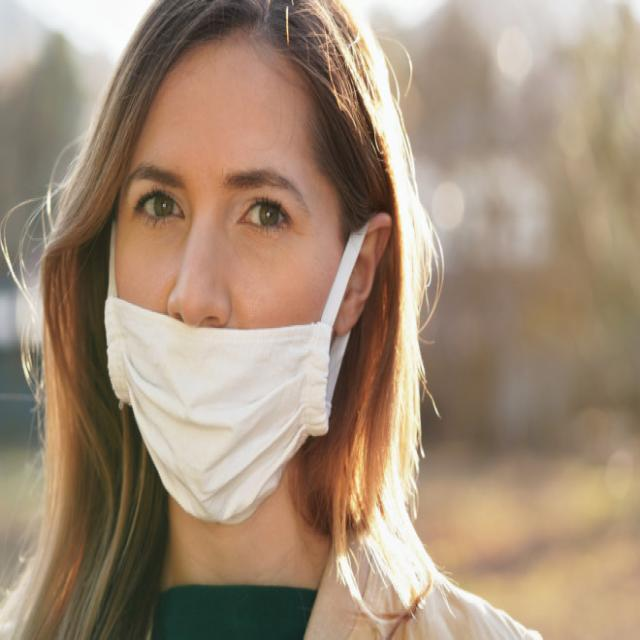mask: (64, 226, 374, 531)
